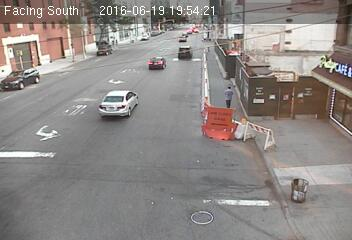neg: (171, 99, 193, 127), (112, 90, 131, 115), (310, 88, 328, 112), (95, 160, 112, 183), (290, 177, 307, 199), (304, 34, 320, 56), (93, 44, 109, 65), (274, 107, 290, 128), (60, 139, 75, 159), (143, 53, 157, 73), (183, 37, 197, 56), (152, 179, 165, 197), (18, 43, 31, 61), (208, 171, 221, 188), (44, 107, 56, 124), (195, 208, 207, 225), (215, 46, 227, 61), (265, 66, 276, 81)
pos: (221, 83, 241, 109)
